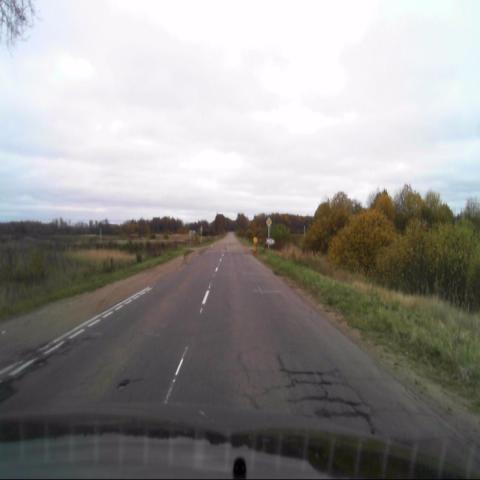2_1: (265, 217, 272, 227)
